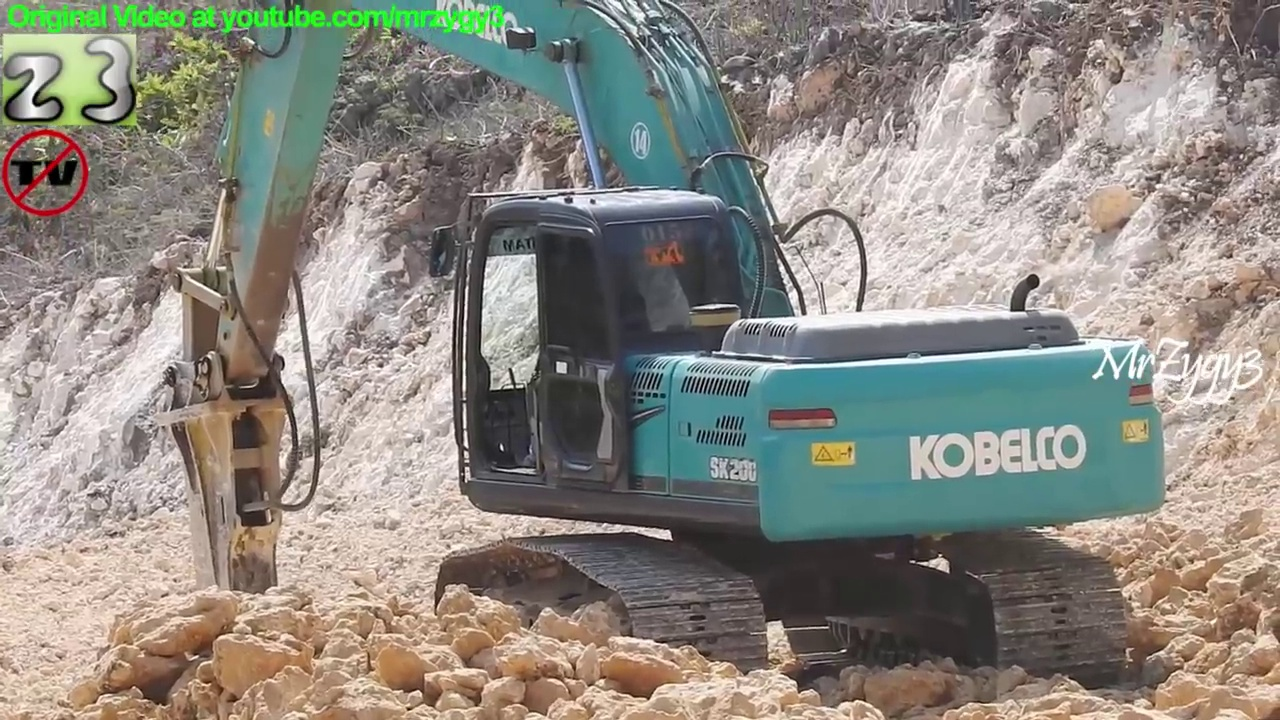excavator: (148, 1, 1178, 703)
